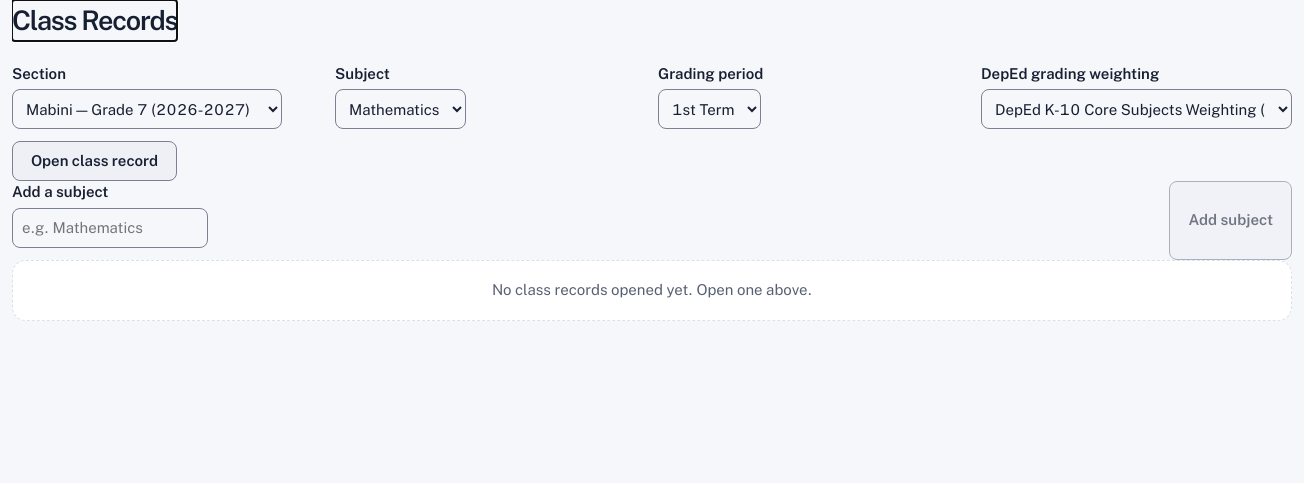
Scenario: ClassRecordsScreen › opens a class record for the selected section, subject, grading period, and weight policy
expect the dropdown labelled "Section" is shown: met, box left=12, top=89, right=282, bottom=129
expect the dropdown labelled "Grading period" shows "1st Term": met, box left=658, top=89, right=761, bottom=129
Click the button "Open class record".
click(95, 161)  # box left=12, top=141, right=177, bottom=181
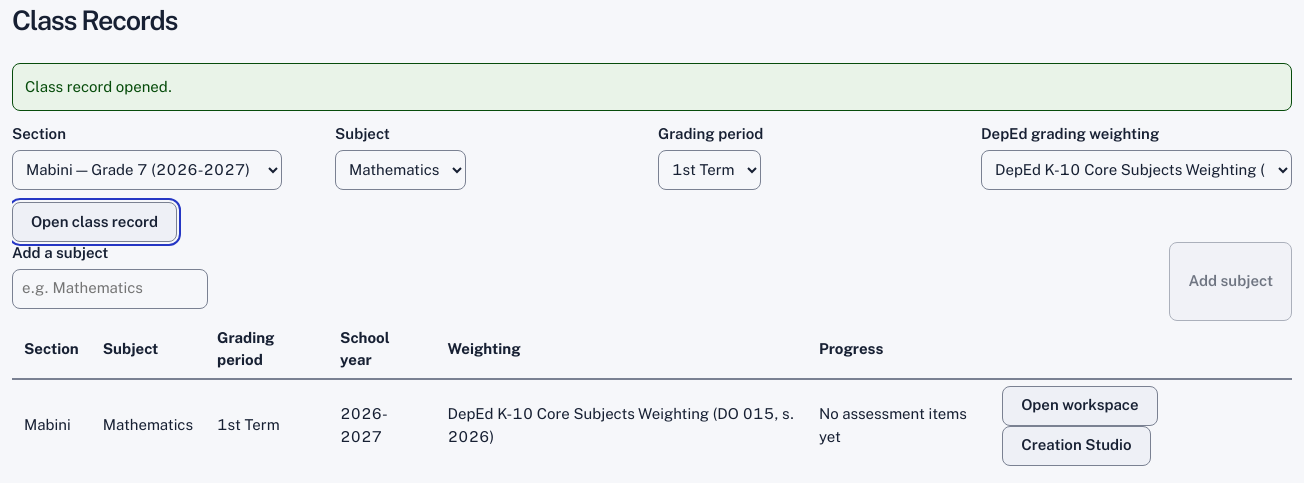
expect the text "Class record opened." is shown: met, box left=12, top=63, right=1292, bottom=111
